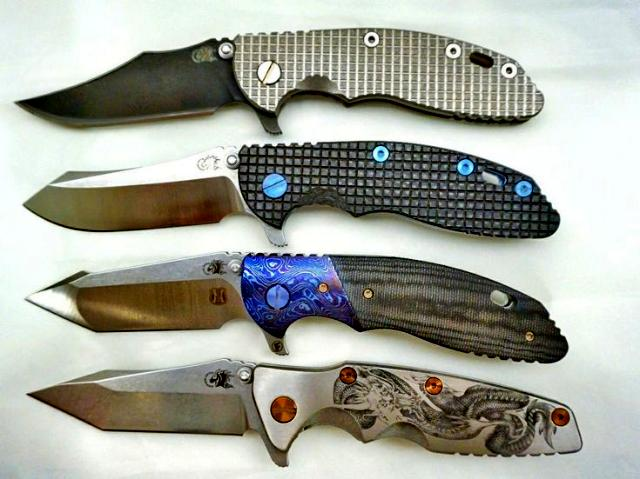pocket-knife: (23, 354, 583, 479), (4, 129, 568, 252), (14, 18, 556, 141), (18, 246, 572, 358)
